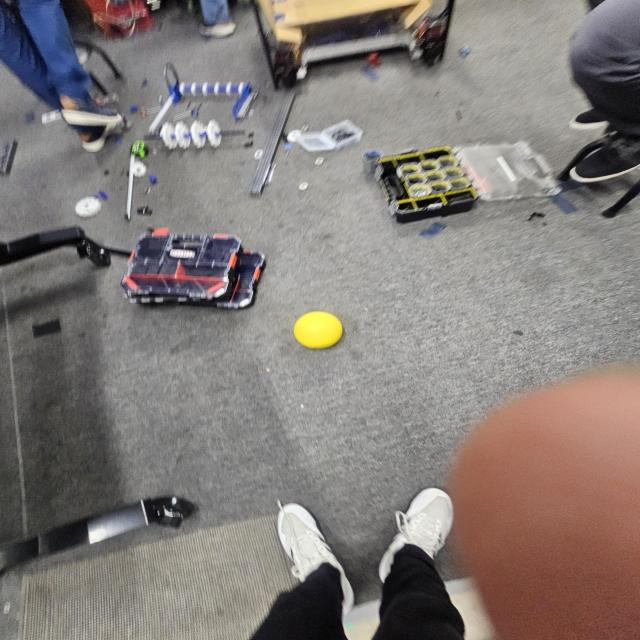Fuel: (286, 308, 348, 352)
